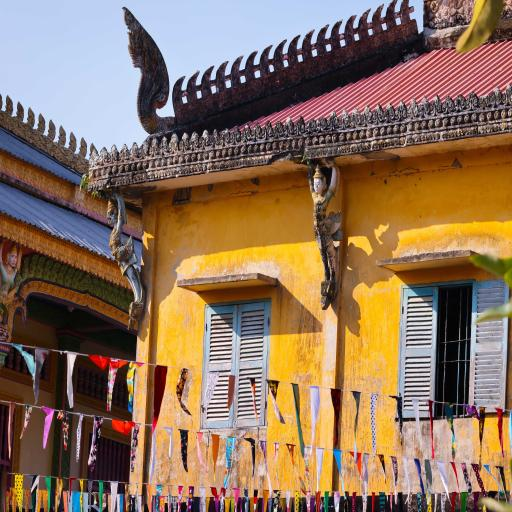la: (490, 84, 504, 107), (372, 102, 386, 125), (430, 93, 443, 116), (395, 98, 407, 122), (187, 131, 201, 151), (295, 113, 307, 136), (384, 101, 396, 124), (252, 119, 264, 141), (350, 106, 362, 128), (328, 109, 339, 131), (419, 95, 430, 117), (56, 264, 68, 284), (361, 106, 373, 126), (338, 109, 350, 129), (159, 135, 170, 156), (168, 133, 180, 152), (283, 117, 295, 136), (442, 94, 454, 113), (43, 258, 54, 278), (467, 90, 478, 110), (29, 253, 38, 277), (210, 128, 222, 146), (219, 128, 231, 146), (230, 127, 242, 145), (36, 256, 46, 277), (108, 142, 118, 163), (64, 266, 75, 285), (99, 146, 110, 165), (0, 218, 10, 238), (102, 261, 112, 281), (22, 256, 30, 281), (179, 132, 189, 152), (408, 98, 418, 118), (42, 235, 51, 257), (57, 241, 66, 263), (81, 251, 90, 273), (72, 270, 83, 288), (81, 273, 92, 291), (89, 149, 100, 167), (148, 139, 159, 157), (199, 130, 210, 148), (316, 116, 327, 134), (118, 144, 130, 160), (454, 95, 466, 111), (478, 94, 490, 110), (264, 119, 274, 138), (66, 244, 74, 267), (118, 266, 127, 286), (50, 262, 60, 280), (273, 118, 283, 136), (50, 238, 58, 260), (305, 117, 316, 133), (504, 84, 512, 106), (17, 224, 26, 243), (242, 124, 252, 141), (34, 232, 42, 253), (9, 222, 18, 240), (130, 142, 139, 160), (139, 140, 148, 158), (76, 190, 86, 206), (110, 264, 118, 284), (74, 248, 81, 270), (90, 254, 97, 276), (124, 288, 130, 313), (118, 286, 124, 310), (112, 283, 118, 306), (27, 229, 34, 248), (12, 161, 20, 177), (26, 167, 34, 183), (104, 281, 110, 302), (33, 172, 41, 187), (47, 177, 55, 192), (54, 180, 62, 195), (97, 258, 103, 278), (94, 276, 100, 296), (92, 197, 99, 214), (98, 198, 105, 215), (86, 193, 92, 211), (40, 174, 47, 189), (136, 215, 142, 232), (6, 158, 12, 174), (130, 215, 136, 231), (100, 278, 104, 300), (20, 165, 26, 179), (62, 184, 68, 198), (0, 156, 5, 172), (125, 212, 130, 226)
lua: (68, 131, 77, 153), (38, 112, 46, 136), (79, 135, 87, 159), (58, 123, 66, 146), (48, 118, 56, 140), (28, 106, 35, 130), (6, 94, 14, 115), (17, 100, 24, 123)
ran: (122, 3, 173, 132)
than: (307, 159, 343, 310), (102, 192, 150, 304), (0, 242, 26, 330)
